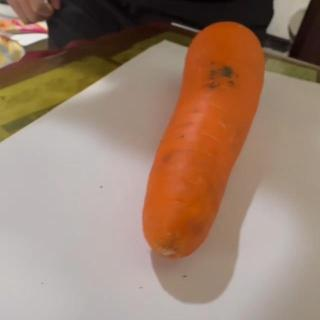carrot: (143, 20, 267, 260)
